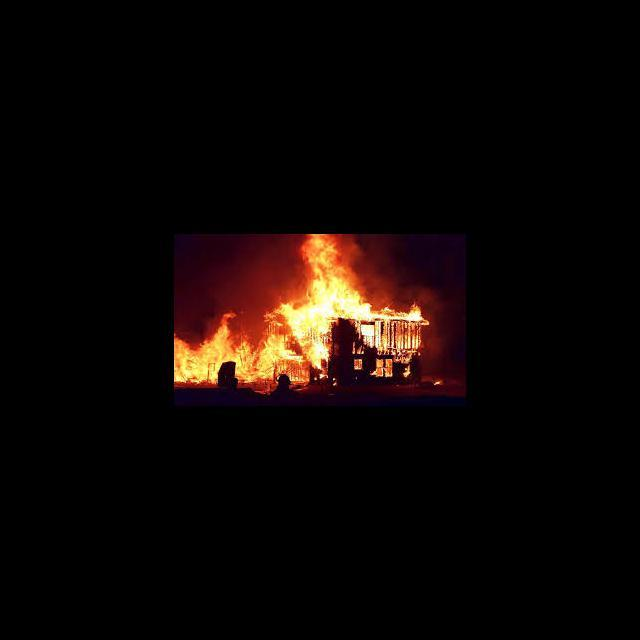Fire: (265, 238, 429, 380), (174, 315, 267, 384), (434, 377, 446, 388), (330, 382, 339, 386)
